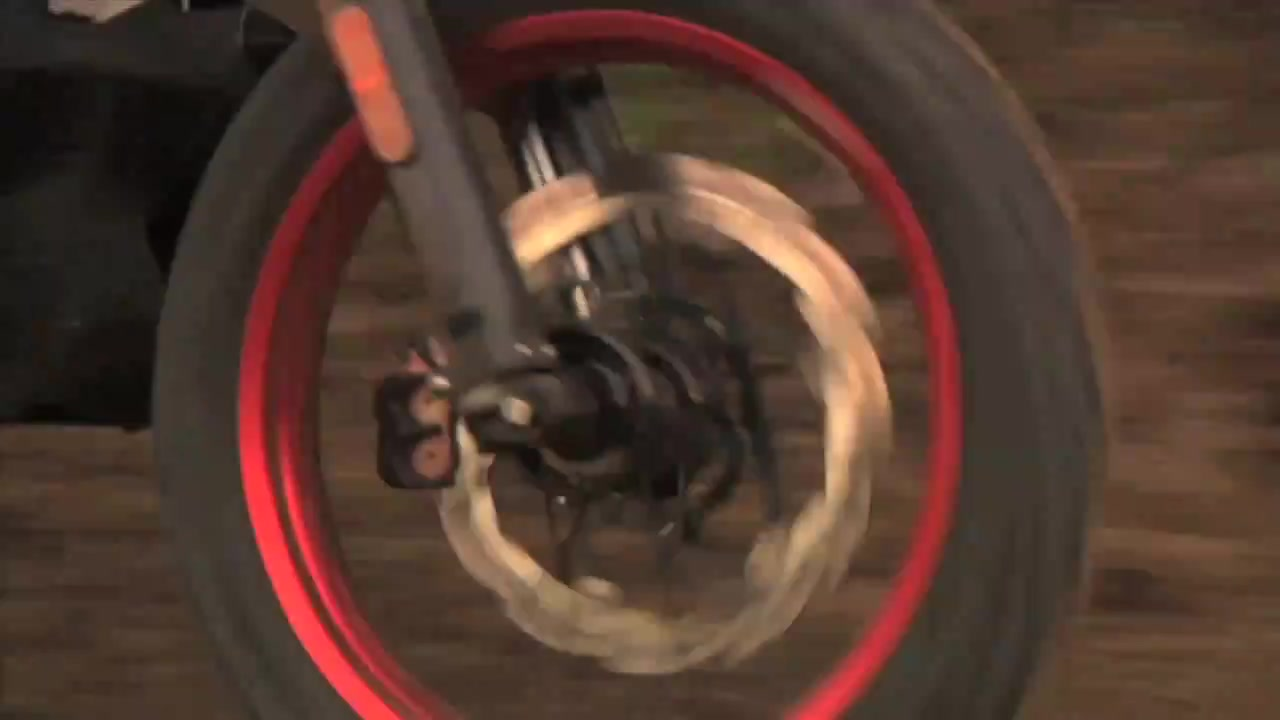motorbike: (4, 4, 1115, 720)
